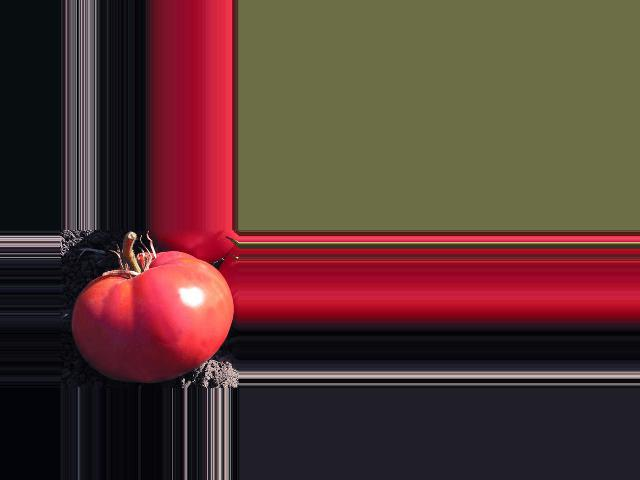tomato: (71, 252, 233, 383)
